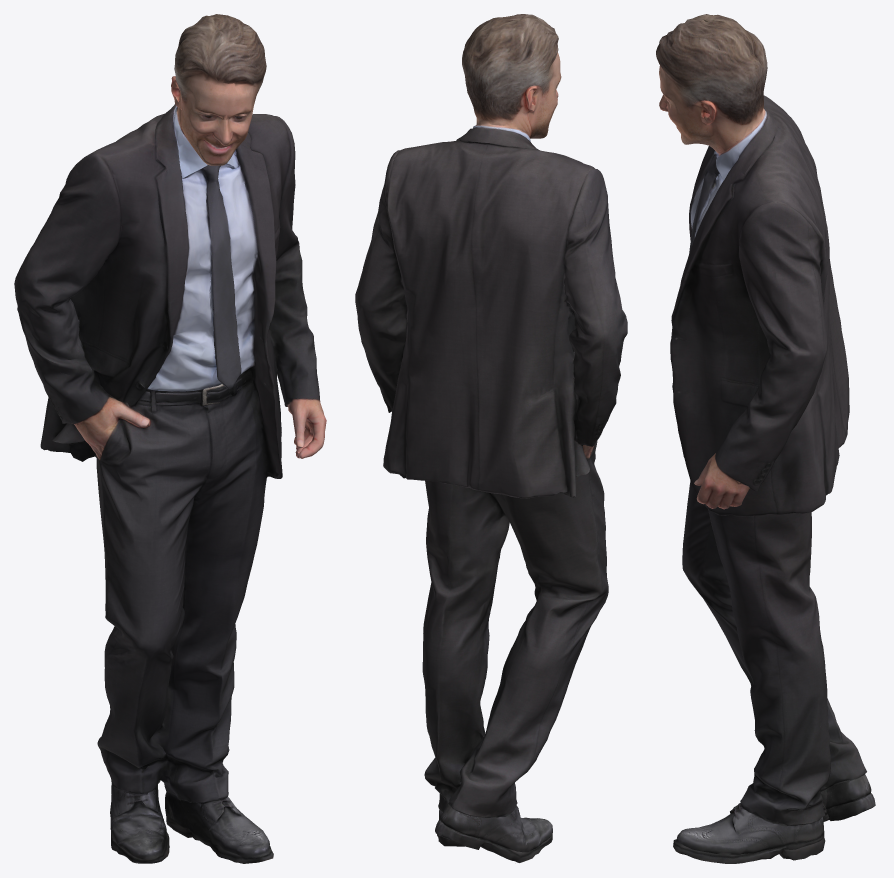
Rendered from business_man.glb.
3 renders of one model, left to right at view 1: azimuth 30°, elevation 25°; view 2: azimuth 150°, elevation 25°; view 3: azimuth 270°, elevation 25°, orthographic. The views are drawn at different scales.
Visible parts, largest first — view 1: Object_2; view 2: Object_2; view 3: Object_2.
Part boxes in pixels (left/top/right/bottom): Object_2: left=14, top=14, right=326, bottom=863; Object_2: left=355, top=14, right=627, bottom=862; Object_2: left=656, top=14, right=875, bottom=863.
Bounding box in the file's own units: 0.8575 × 2.5 × 0.6129.
Materials: 1 (1 with a texture image).
